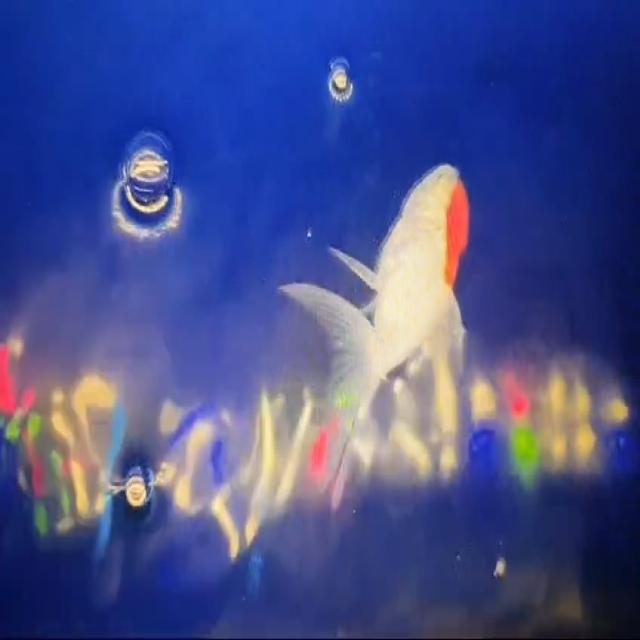fish: (278, 145, 472, 500)
